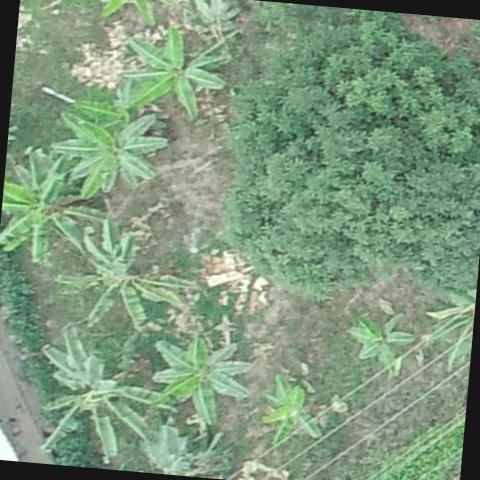Banana-plant: (32, 322, 177, 470), (51, 214, 207, 336), (46, 82, 174, 208), (0, 141, 106, 273), (116, 18, 234, 126), (146, 328, 260, 434), (346, 305, 426, 372), (261, 372, 328, 450)
